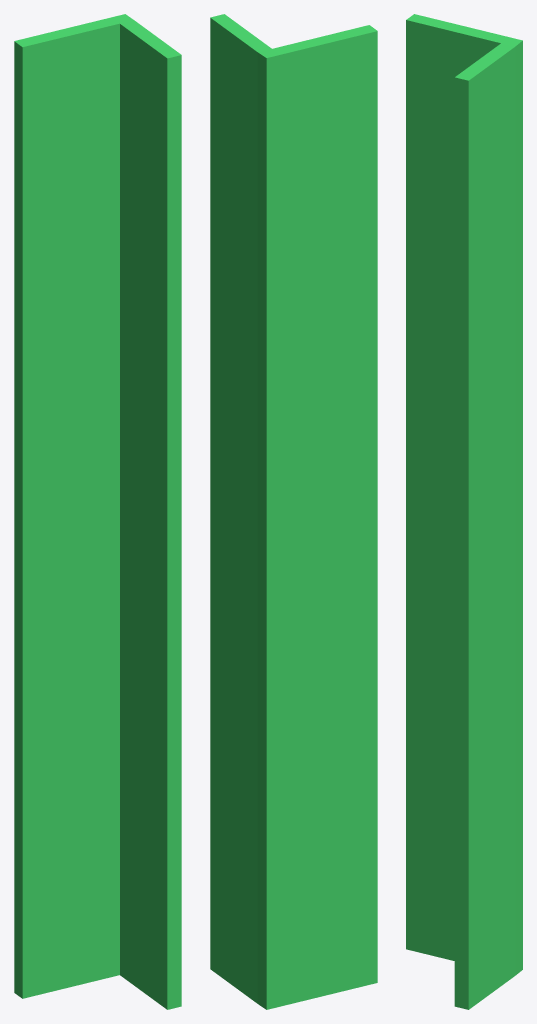
The model's file is CornerPiece.fbx.
3 renders of one model, left to right at view 1: azimuth 30°, elevation 25°; view 2: azimuth 210°, elevation 25°; view 3: azimuth 330°, elevation 25°, orthographic. The views are drawn at different scales.
Parts seen in each view (by area): view 1: CornerPiece; view 2: CornerPiece; view 3: CornerPiece.
Boxes of the visible parts, <box> form: CornerPiece: <box>14,14,181,1009</box>; CornerPiece: <box>210,14,377,1009</box>; CornerPiece: <box>406,14,522,1009</box>.
Size of the model in its own units: 122 by 992 by 106.
